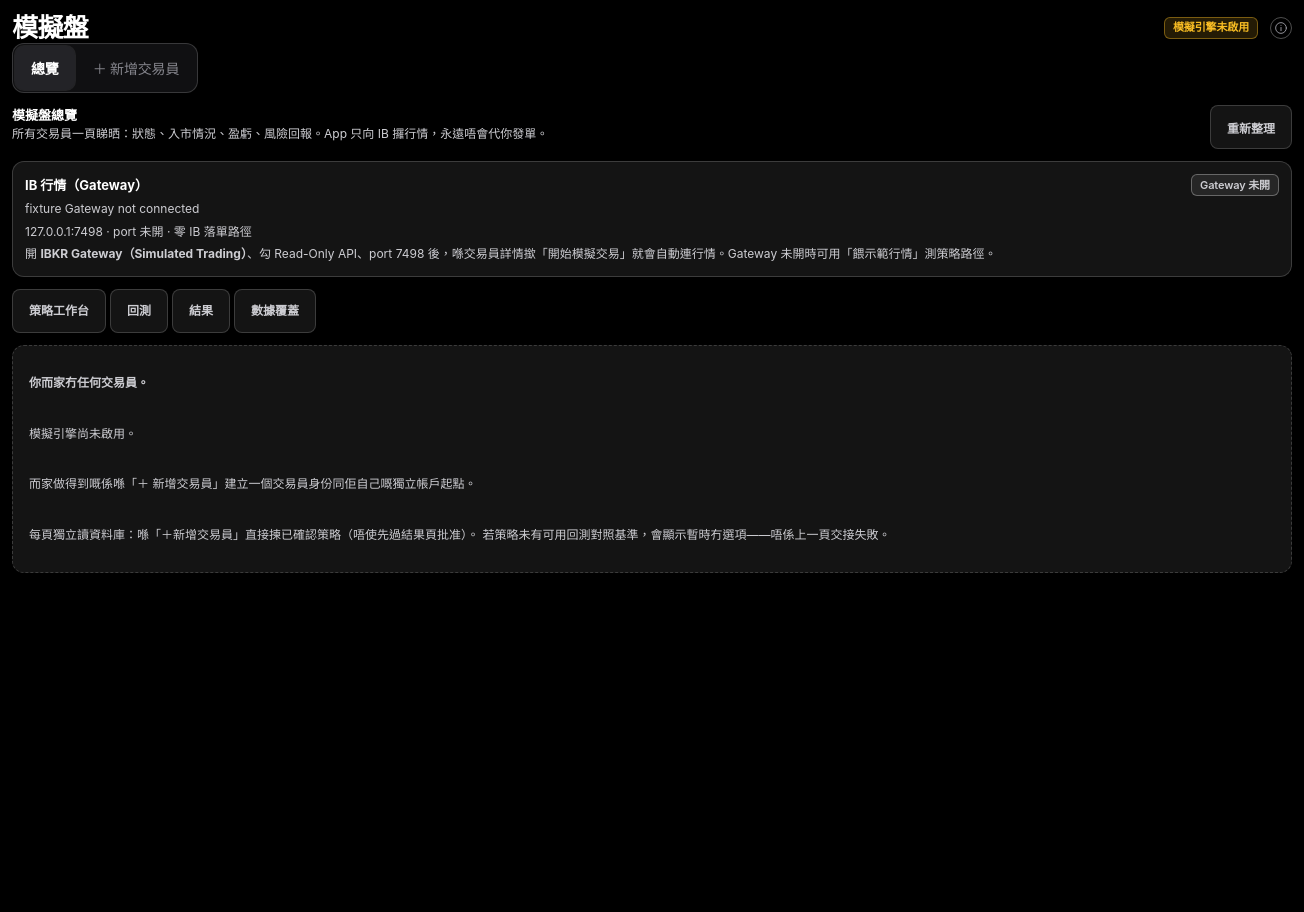
it: P6 Stage A — contract candidates (approach C) › only asks the dedicated contract endpoint, never coverage or the run list
Click the tab "＋ 新增交易員": (136, 68) [77,46,195,90]
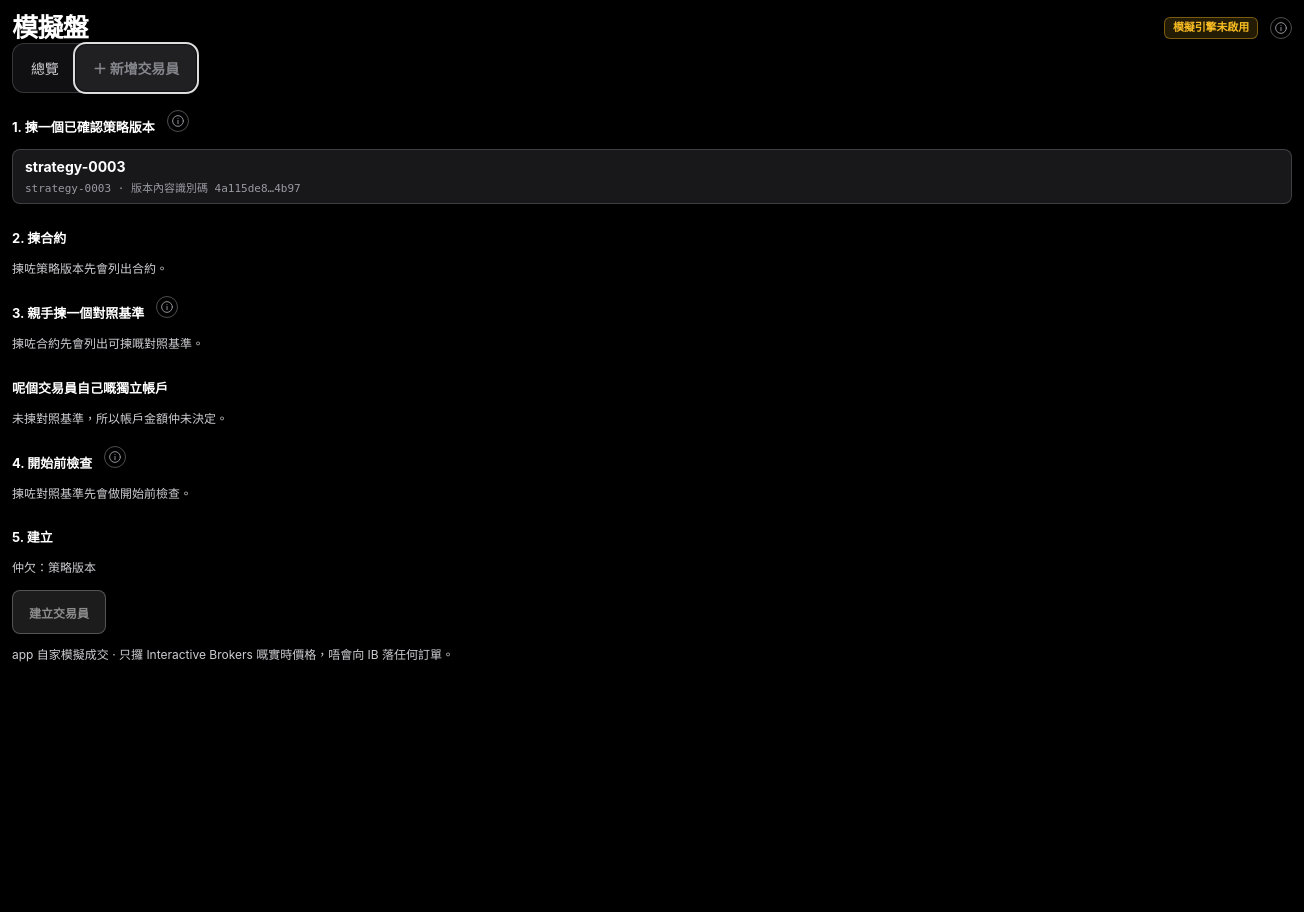
Click the button "strategy-0003 strategy-0003 · 版本內容識別碼 4a115de8…4b97": (75, 167) [12,149,1292,204]
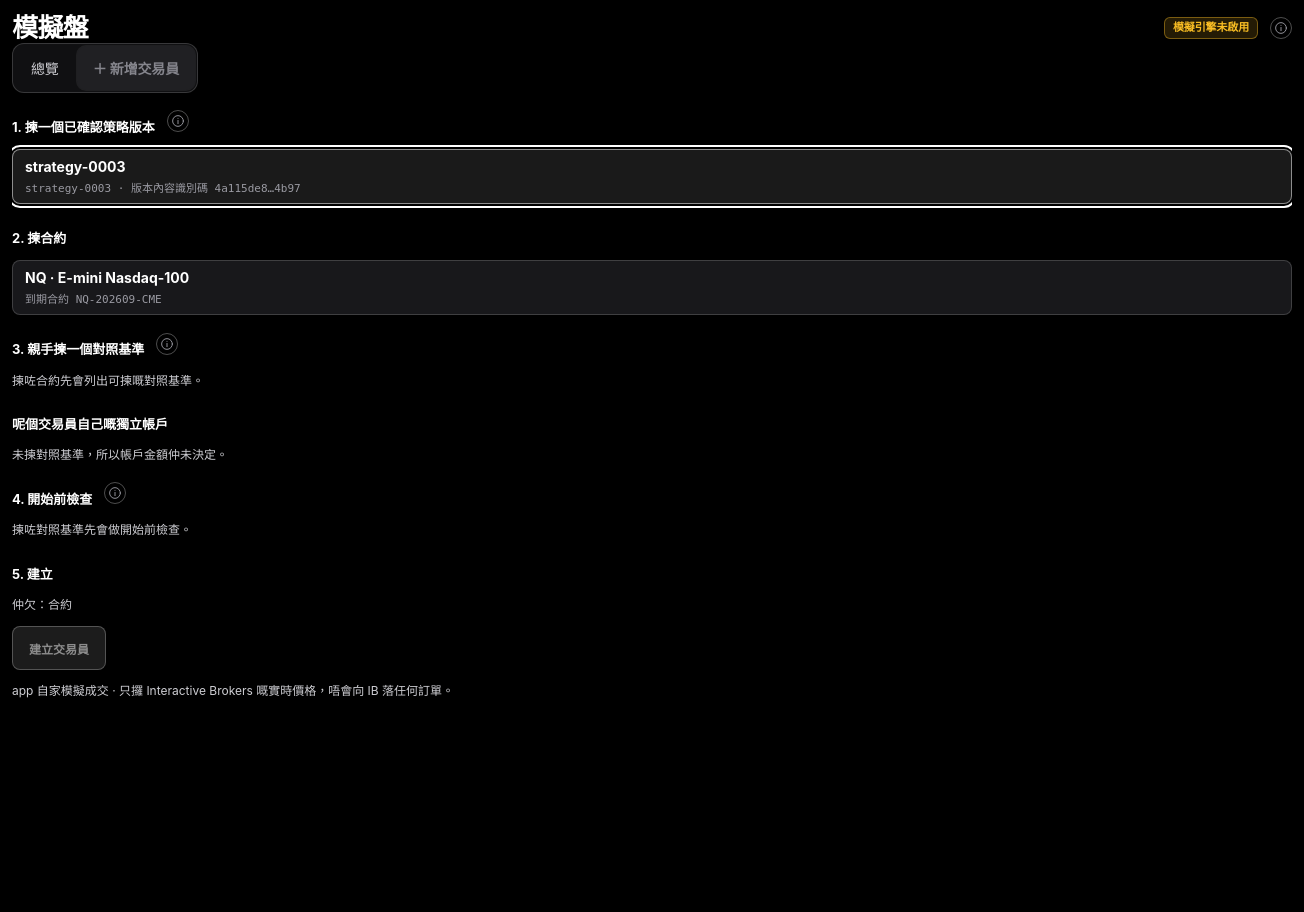
Now the button "NQ · E-mini Nasdaq-100 到期合約 NQ-202609-CME" is shown, box [12,260,1292,316]
